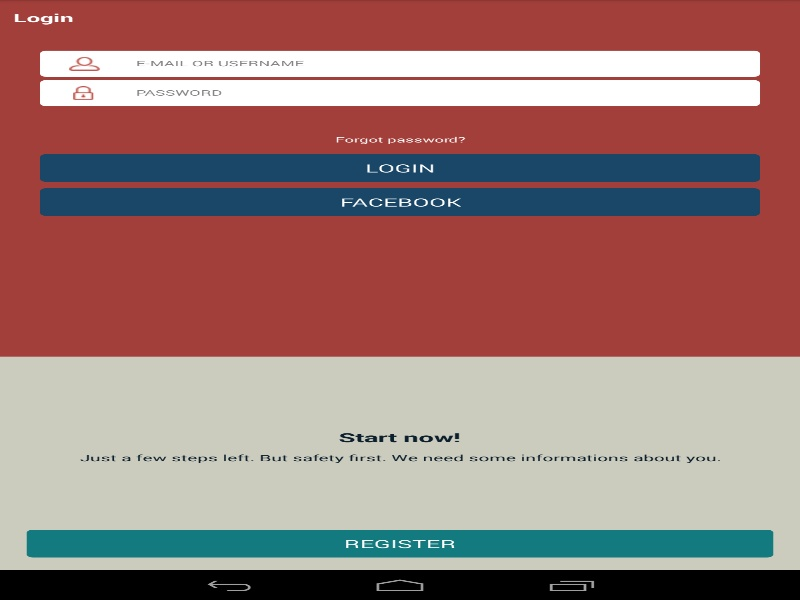Input: (120, 50, 749, 76), (120, 80, 749, 106)
